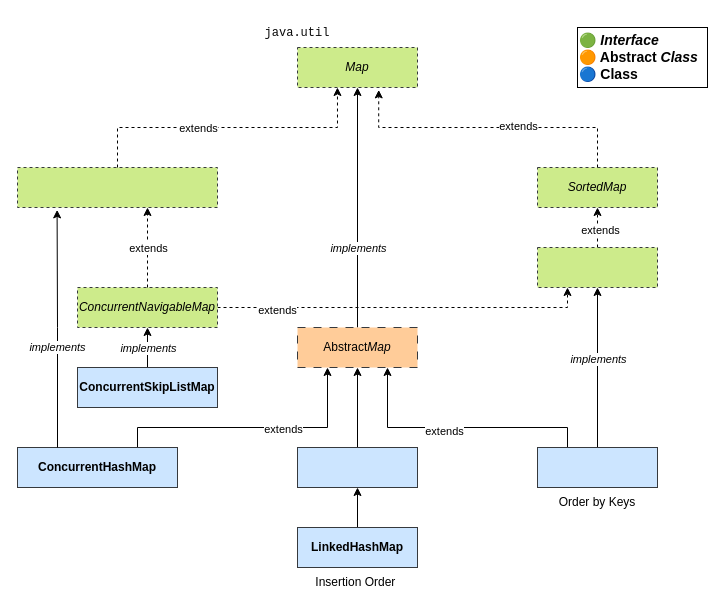
Some shapes in this 725 by 614 pixel diagram are drawn without their labels. The shapes that lost their labels are listed below. From the top down, each one's centre as x and y in pixels, then its label:
point 117,187: ConcurrentMap
point 597,267: NavigableMap
point 357,467: HashMap
point 597,467: TreeMap
